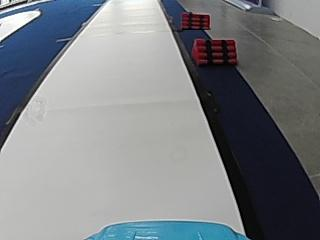bomb: (192, 38, 238, 64)
